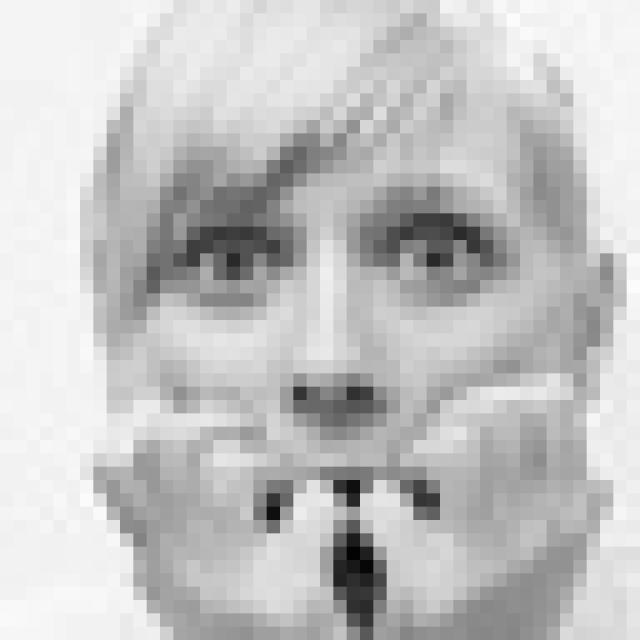fear: (175, 182, 521, 572)
